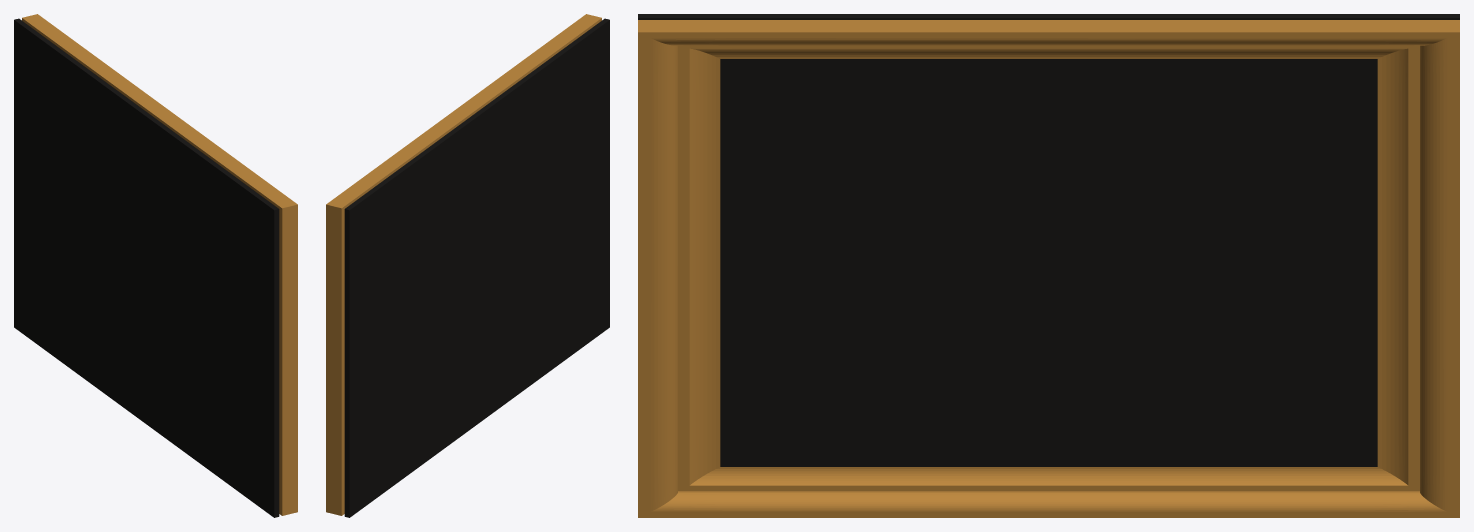
Rendered from frm.glb.
3 renders of one model, left to right at view 1: azimuth 30°, elevation 25°; view 2: azimuth 150°, elevation 25°; view 3: azimuth 270°, elevation 25°, orthographic. The views are drawn at different scales.
Parts seen in each view (by area): view 1: frame.001_3, back panel.001_2; view 2: frame.001_3, back panel.001_2; view 3: frame.001_3, back panel.001_2.
Boxes of the visible parts, x1,y1,x2,y2 form: frame.001_3: (14,18,279,517); back panel.001_2: (22,14,297,515); frame.001_3: (344,18,609,517); back panel.001_2: (326,14,601,515); frame.001_3: (638,14,1459,466); back panel.001_2: (638,20,1459,517).
Size of the model in its own units: 0.1177 by 1.46 by 2.24.
